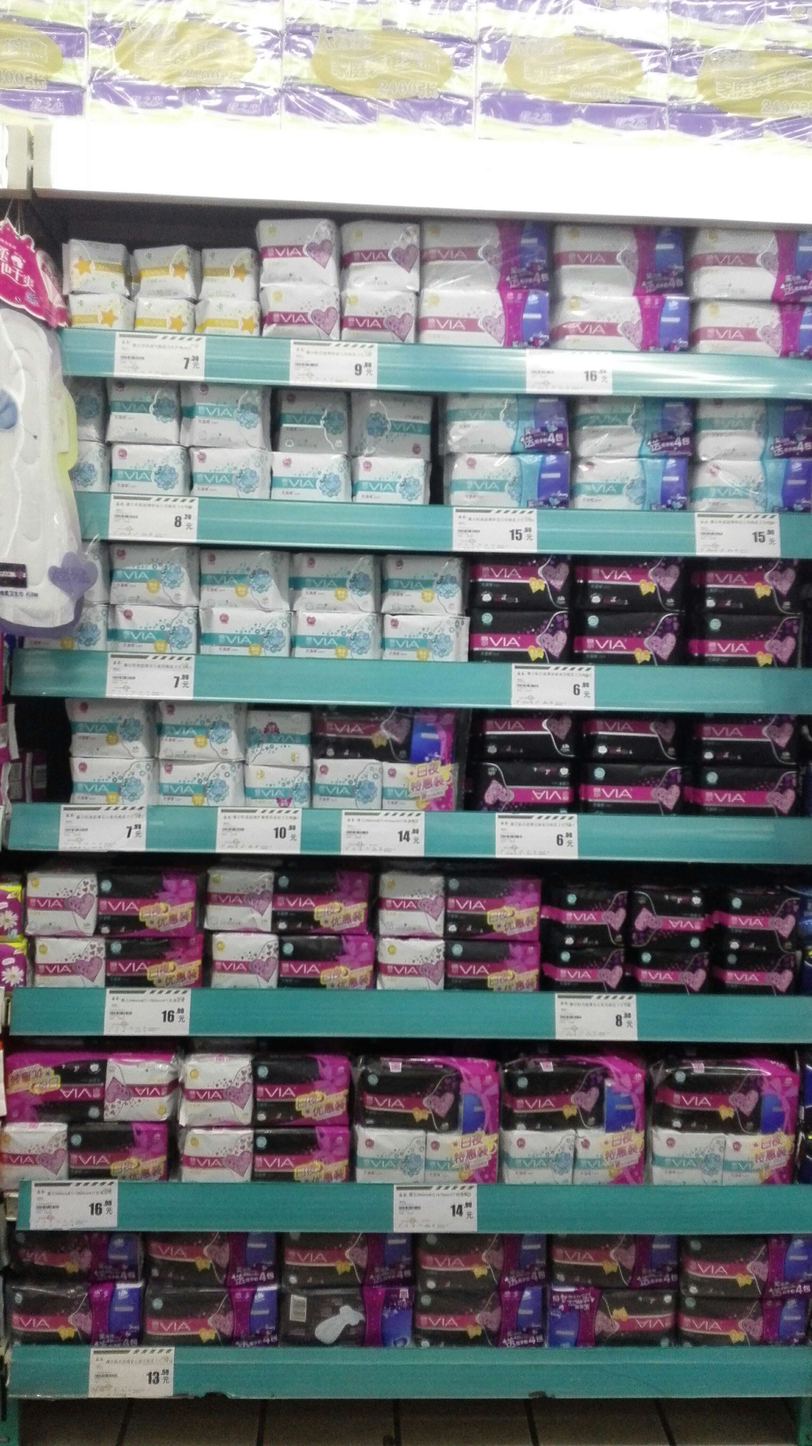Box: (500, 1055, 647, 1128), (355, 1054, 496, 1123), (661, 1063, 796, 1131), (696, 231, 812, 302), (425, 226, 555, 287), (571, 395, 699, 455), (10, 1287, 142, 1345), (147, 1291, 281, 1347), (683, 1232, 812, 1290), (561, 228, 685, 288), (288, 1290, 416, 1348), (422, 1290, 551, 1347), (425, 285, 550, 343), (413, 1233, 547, 1287), (554, 296, 688, 350), (440, 395, 567, 450), (557, 1232, 679, 1289), (256, 1054, 351, 1126), (318, 710, 456, 759), (13, 1048, 106, 1119), (681, 1297, 807, 1349), (571, 458, 695, 509), (557, 1294, 675, 1347), (288, 1232, 411, 1282), (445, 457, 570, 505), (109, 537, 195, 605), (703, 403, 811, 457), (693, 614, 805, 666), (149, 1238, 281, 1282), (447, 879, 545, 937), (276, 875, 375, 932), (97, 879, 194, 937), (688, 765, 799, 815), (693, 310, 812, 356), (17, 1237, 141, 1281), (179, 1054, 253, 1127), (577, 615, 687, 663), (186, 384, 268, 447), (256, 1127, 348, 1183), (154, 702, 246, 758), (470, 559, 569, 611), (576, 564, 684, 611), (691, 564, 801, 610), (701, 465, 811, 510), (77, 1125, 169, 1178), (293, 554, 374, 614), (574, 763, 677, 810), (104, 1053, 173, 1123), (109, 383, 183, 448), (263, 283, 344, 342), (375, 559, 461, 614), (582, 717, 684, 763), (348, 401, 434, 455), (343, 228, 421, 286), (482, 710, 575, 758), (276, 392, 348, 454), (199, 555, 281, 609), (698, 718, 796, 763), (107, 938, 202, 984), (425, 1127, 500, 1185), (631, 889, 710, 944), (470, 614, 571, 657), (283, 938, 373, 986), (482, 763, 571, 811), (112, 609, 199, 658), (452, 940, 539, 989), (261, 226, 334, 284), (30, 872, 96, 936), (70, 701, 148, 755), (559, 885, 626, 944), (204, 872, 272, 930), (2, 1126, 71, 1183), (32, 937, 106, 990), (154, 762, 241, 807), (67, 758, 148, 805), (721, 942, 800, 990), (383, 875, 446, 935), (348, 291, 422, 342), (204, 614, 288, 658), (296, 614, 381, 657), (109, 452, 192, 496), (377, 939, 447, 991), (273, 457, 351, 503), (579, 1130, 649, 1181), (355, 1130, 423, 1182), (355, 455, 427, 504), (196, 449, 269, 497), (653, 1135, 723, 1185), (631, 947, 712, 990), (383, 619, 466, 660), (507, 1136, 575, 1186), (728, 1136, 796, 1186), (713, 889, 782, 938), (184, 1133, 251, 1183), (67, 241, 127, 294), (214, 934, 278, 983), (137, 247, 198, 298), (557, 948, 623, 994), (388, 763, 462, 804), (251, 708, 306, 763), (316, 762, 379, 810), (201, 246, 254, 301), (246, 770, 312, 808), (65, 293, 127, 329), (196, 303, 259, 335), (134, 301, 195, 333)
